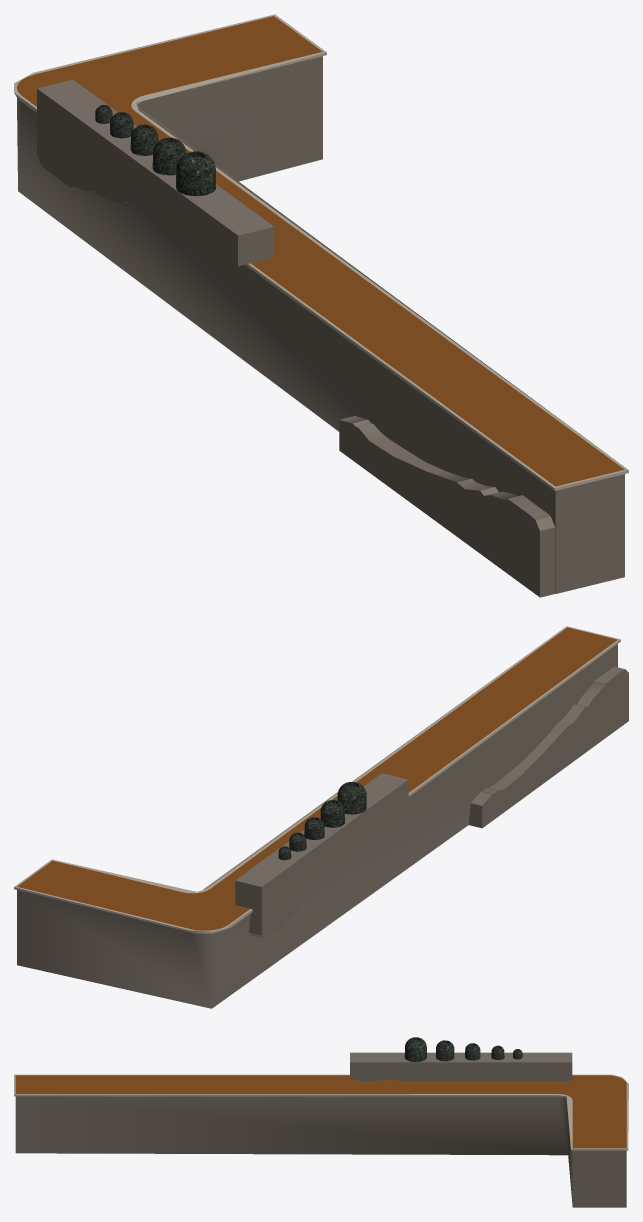
Rendered from concierge-desk.lod0.glb.
The picture shows the model from 3 angles, top to bottom: view 1: azimuth 30°, elevation 25°; view 2: azimuth 150°, elevation 25°; view 3: azimuth 270°, elevation 25°; orthographic projection. The views are drawn at different scales.
Parts seen in each view (by area): view 1: defaultMaterial (×2); view 2: defaultMaterial (×2); view 3: defaultMaterial (×2).
Boxes of the visible parts, left/top/right/bottom form: defaultMaterial (×2): left=14, top=14, right=628, bottom=597; defaultMaterial (×2): left=14, top=626, right=628, bottom=1008; defaultMaterial (×2): left=14, top=1037, right=628, bottom=1207.
Bounding box in the file's own units: 0.8992 × 0.5133 × 3.
2 materials, 1 textured.
